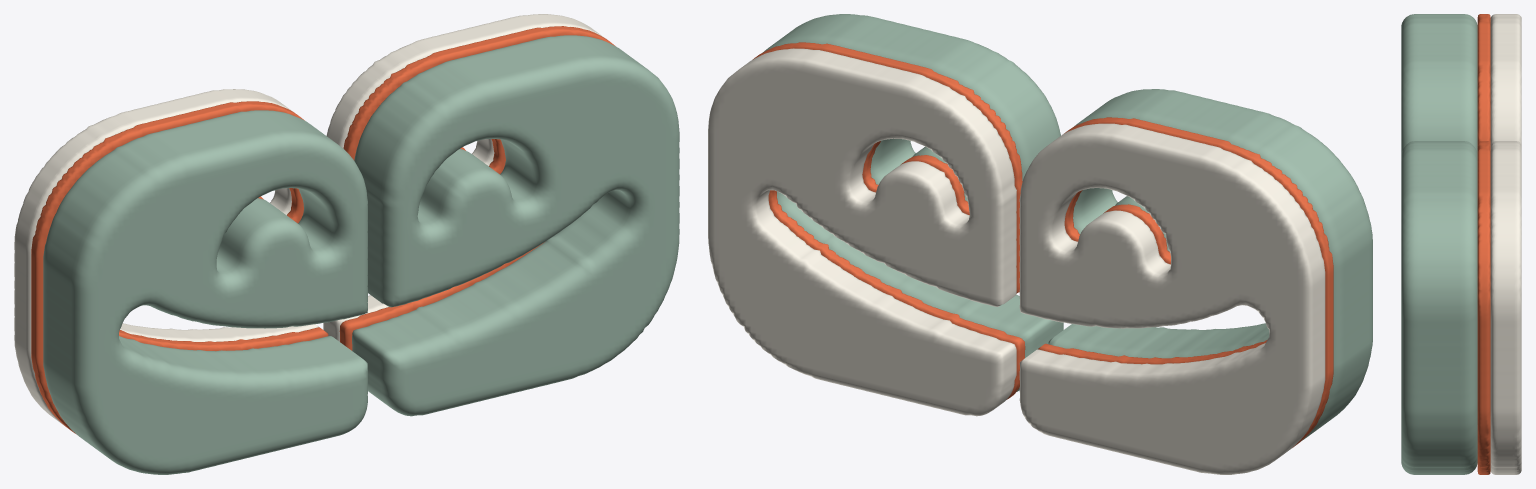
The model's file is 01-soft-keys.glb.
The picture shows the model from 3 angles, left to right: view 1: azimuth 30°, elevation 25°; view 2: azimuth 150°, elevation 25°; view 3: azimuth 270°, elevation 25°; orthographic projection. The views are drawn at different scales.
Visible parts, largest first — view 1: 2-secondary-beveled-glyph, 1-secondary-beveled-glyph, 1-paper-beveled-glyph, 1-accent-beveled-glyph, 2-paper-beveled-glyph, 2-accent-beveled-glyph; view 2: 2-paper-beveled-glyph, 1-paper-beveled-glyph, 1-secondary-beveled-glyph, 2-secondary-beveled-glyph, 2-accent-beveled-glyph, 1-accent-beveled-glyph; view 3: 2-secondary-beveled-glyph, 2-paper-beveled-glyph, 1-secondary-beveled-glyph, 2-accent-beveled-glyph, 1-paper-beveled-glyph, 1-accent-beveled-glyph.
Boxes of the visible parts, left/top/right/bottom form: 2-secondary-beveled-glyph: left=352, top=35, right=679, bottom=416; 1-secondary-beveled-glyph: left=43, top=110, right=367, bottom=474; 1-paper-beveled-glyph: left=14, top=89, right=318, bottom=425; 1-accent-beveled-glyph: left=31, top=101, right=328, bottom=433; 2-paper-beveled-glyph: left=323, top=14, right=602, bottom=341; 2-accent-beveled-glyph: left=339, top=26, right=614, bottom=350; 2-paper-beveled-glyph: left=708, top=48, right=1016, bottom=416; 1-paper-beveled-glyph: left=1019, top=123, right=1325, bottom=474; 1-secondary-beveled-glyph: left=1048, top=89, right=1372, bottom=440; 2-secondary-beveled-glyph: left=762, top=14, right=1063, bottom=391; 2-accent-beveled-glyph: left=752, top=42, right=1025, bottom=399; 1-accent-beveled-glyph: left=1038, top=117, right=1333, bottom=447; 2-secondary-beveled-glyph: left=1401, top=141, right=1477, bottom=474; 2-paper-beveled-glyph: left=1490, top=141, right=1521, bottom=474; 1-secondary-beveled-glyph: left=1401, top=14, right=1477, bottom=152; 2-accent-beveled-glyph: left=1477, top=141, right=1490, bottom=474; 1-paper-beveled-glyph: left=1490, top=14, right=1521, bottom=145; 1-accent-beveled-glyph: left=1477, top=14, right=1490, bottom=145.
Bounding box in the file's own units: 2 × 1 × 0.395.
